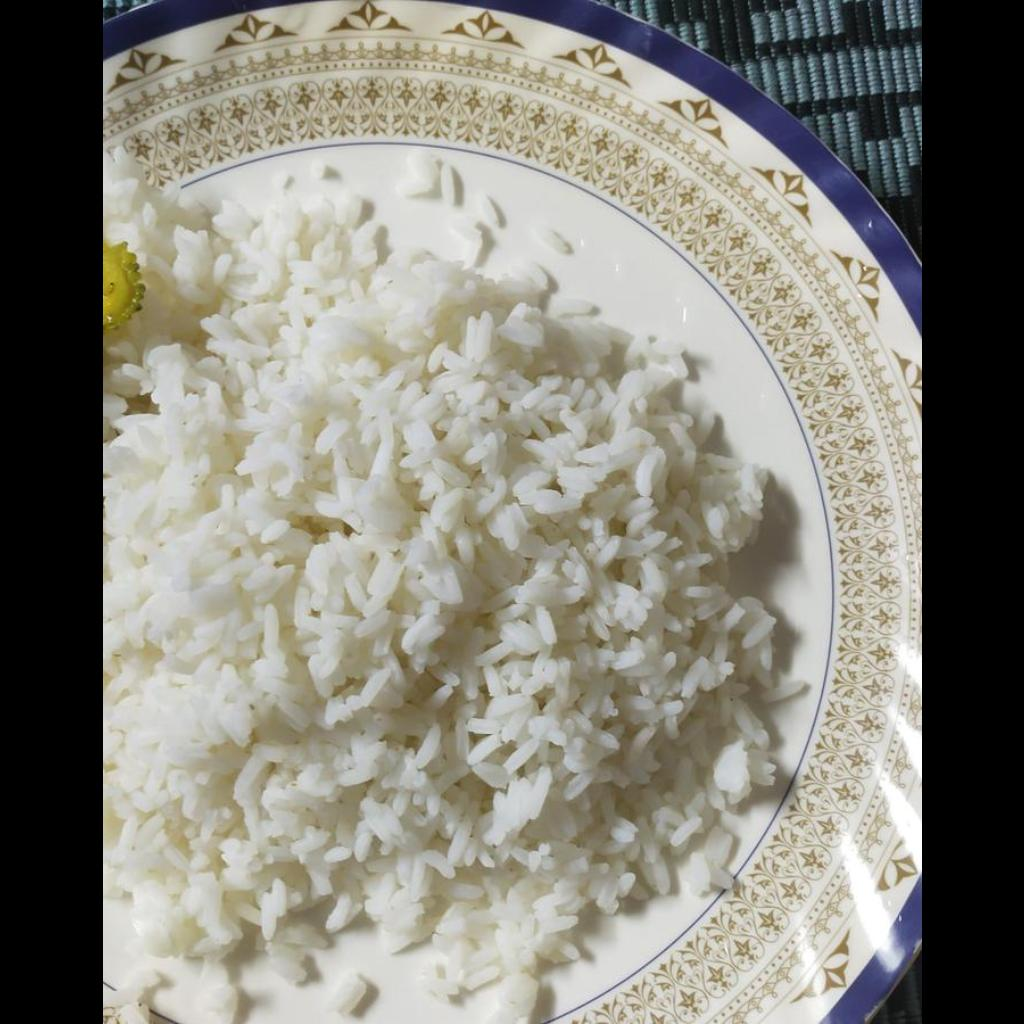rice: (102, 153, 785, 1019)
